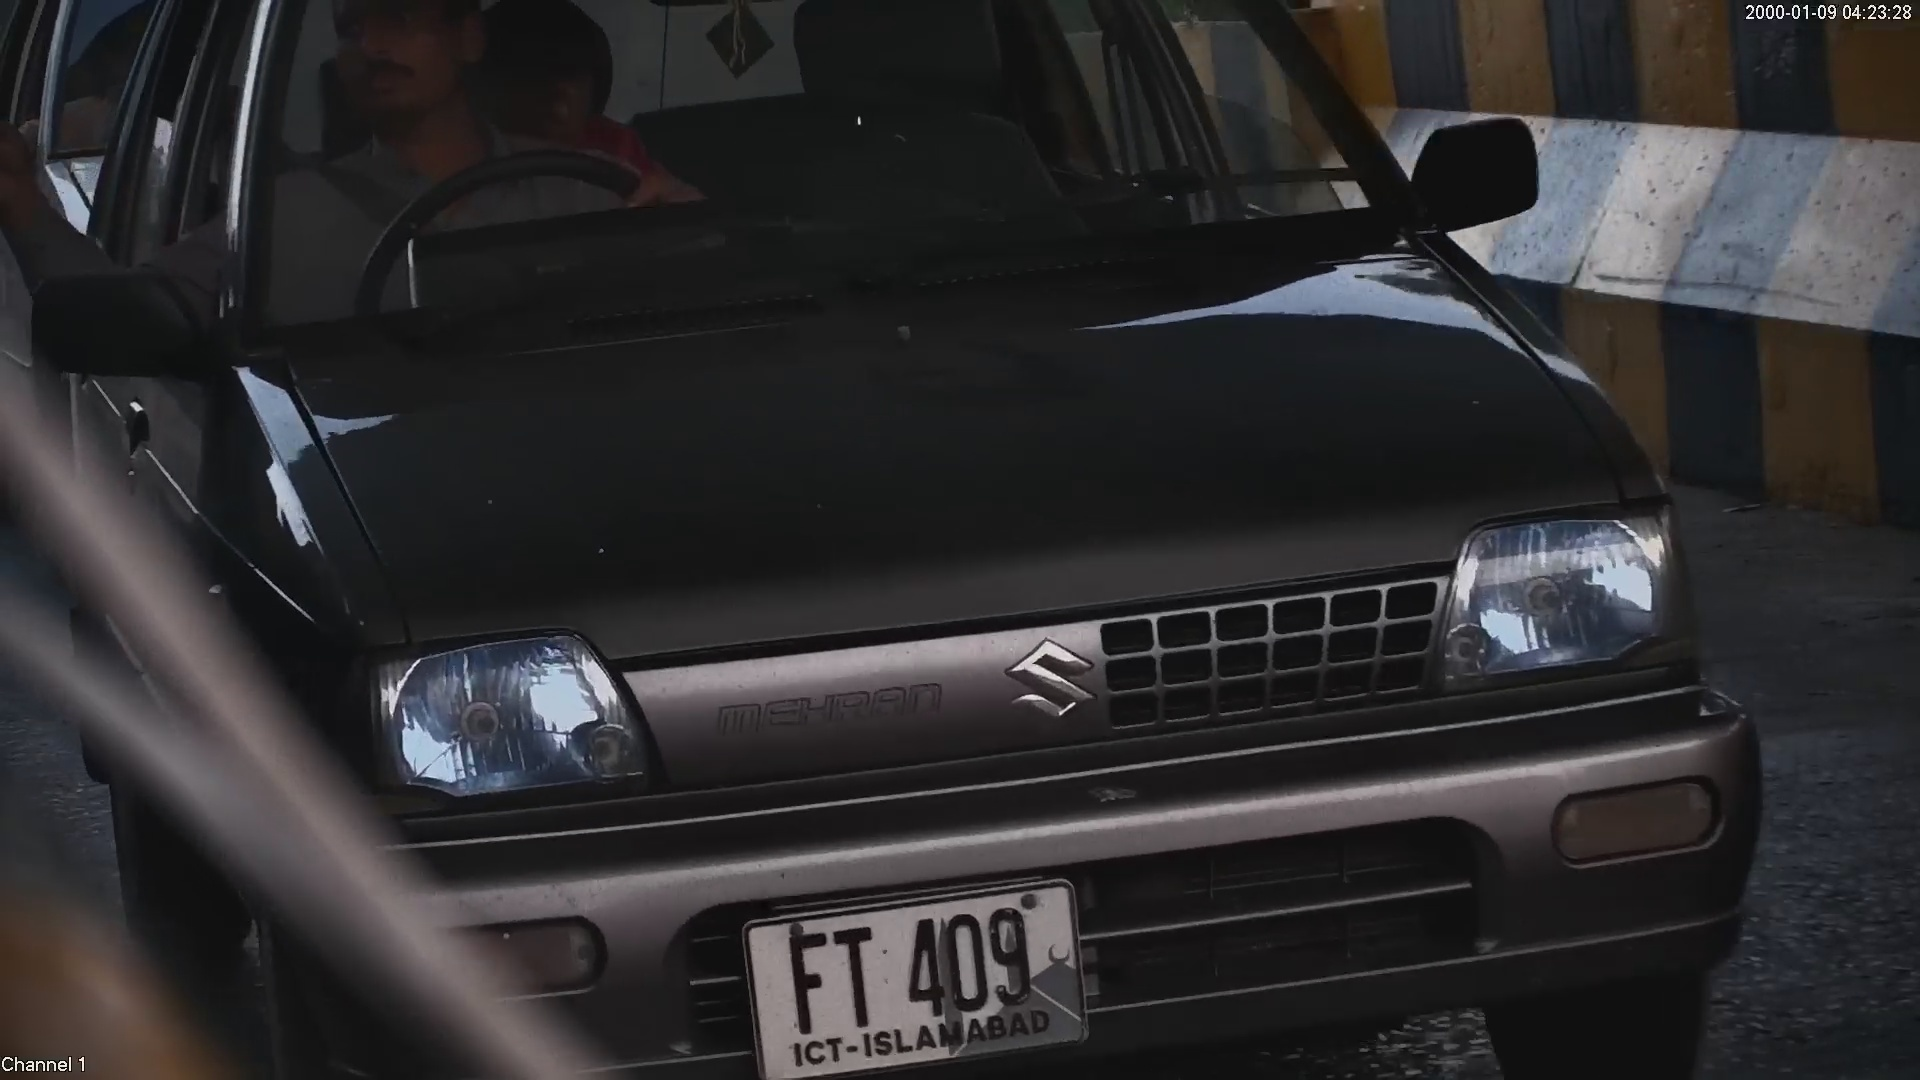Number_Plate: (710, 892, 1117, 1073)
Undefined: (365, 644, 613, 781), (1454, 514, 1660, 670), (1552, 770, 1723, 866), (706, 670, 947, 731), (997, 629, 1110, 727)
